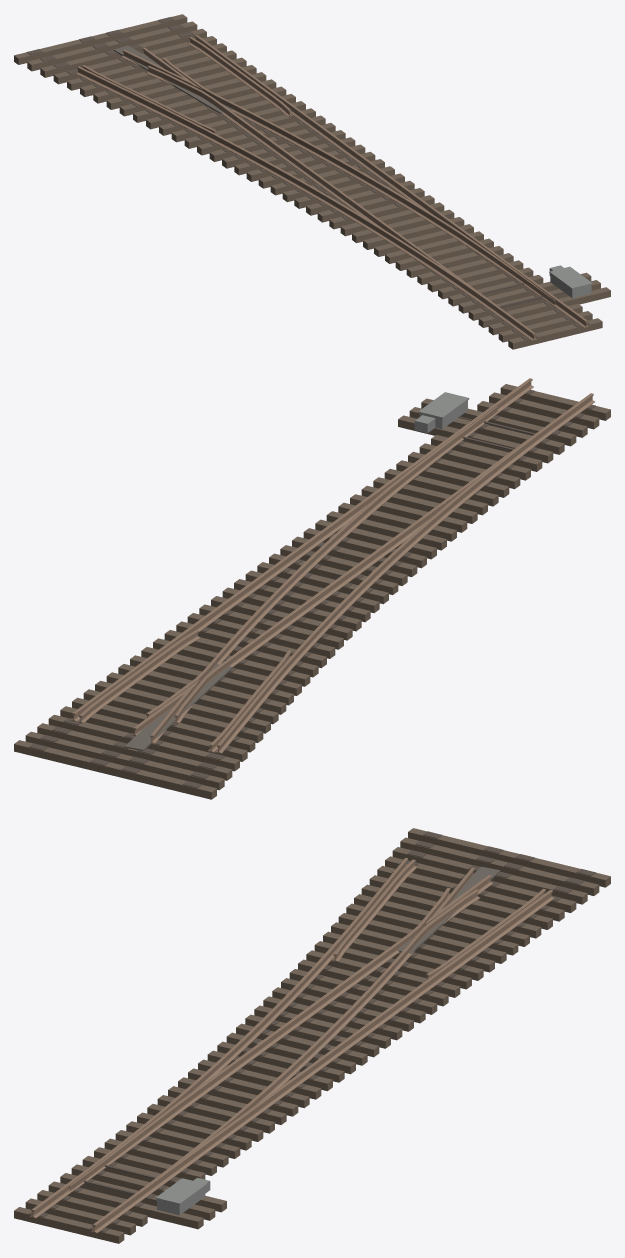
The model's file is turnout_6_l.glb.
3 views of the same model, one above another, from view 1: azimuth 30°, elevation 25°; view 2: azimuth 150°, elevation 25°; view 3: azimuth 330°, elevation 25° (orthographic). The views are drawn at different scales.
Parts seen in each view (by area): view 1: Timbers, Closures, StockCurved, StockStraight, Plates, Guards, Machine, BladeCurved, Frog, FrogCasting; view 2: Timbers, Closures, StockCurved, StockStraight, Plates, Guards, Machine, BladeCurved, FrogCasting, Frog; view 3: Timbers, Closures, StockStraight, Plates, StockCurved, Guards, Machine, BladeStraight, Frog, FrogCasting.
Boxes of the visible parts, x1,y1,x2,y2 form: Timbers: (14,14,610,349); Closures: (146,58,456,245); StockCurved: (76,66,536,340); StockStraight: (195,35,589,327); Plates: (26,17,589,339); Guards: (82,37,292,133); Machine: (549,265,592,298); BladeCurved: (454,230,555,305); Frog: (121,47,201,90); FrogCasting: (114,45,232,113); Timbers: (14,384,610,799); Closures: (146,487,447,723); StockCurved: (215,393,594,753); StockStraight: (70,378,533,721); Plates: (29,389,595,788); Guards: (77,629,291,752); Machine: (414,392,469,433); BladeCurved: (389,406,497,495); FrogCasting: (124,664,232,750); Frog: (132,679,199,743); Timbers: (14,828,610,1243); Closures: (177,887,479,1119); StockStraight: (91,890,554,1233); Plates: (29,831,595,1232); StockCurved: (30,858,407,1218); Guards: (332,859,545,980); Machine: (155,1177,210,1215); BladeStraight: (69,1103,181,1191); Frog: (425,867,493,925); FrogCasting: (397,866,500,953).
Size of the model in its own units: 5.98 by 0.4678 by 21.15.
